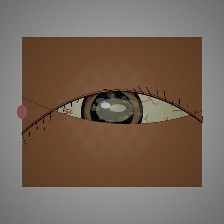corneal_ulcer: (84, 86, 145, 135)
